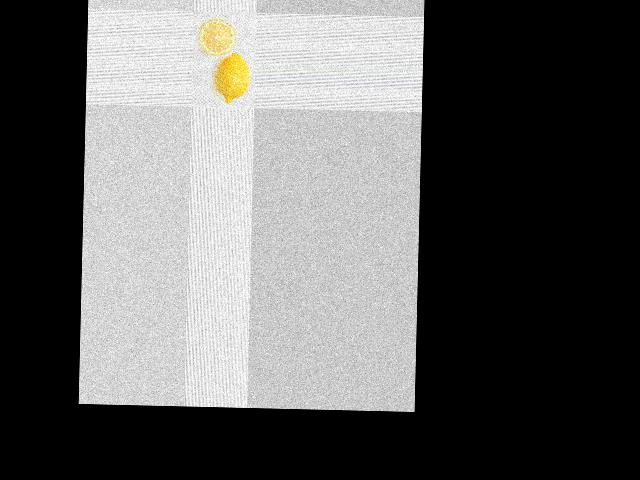lemon: (216, 47, 254, 103)
